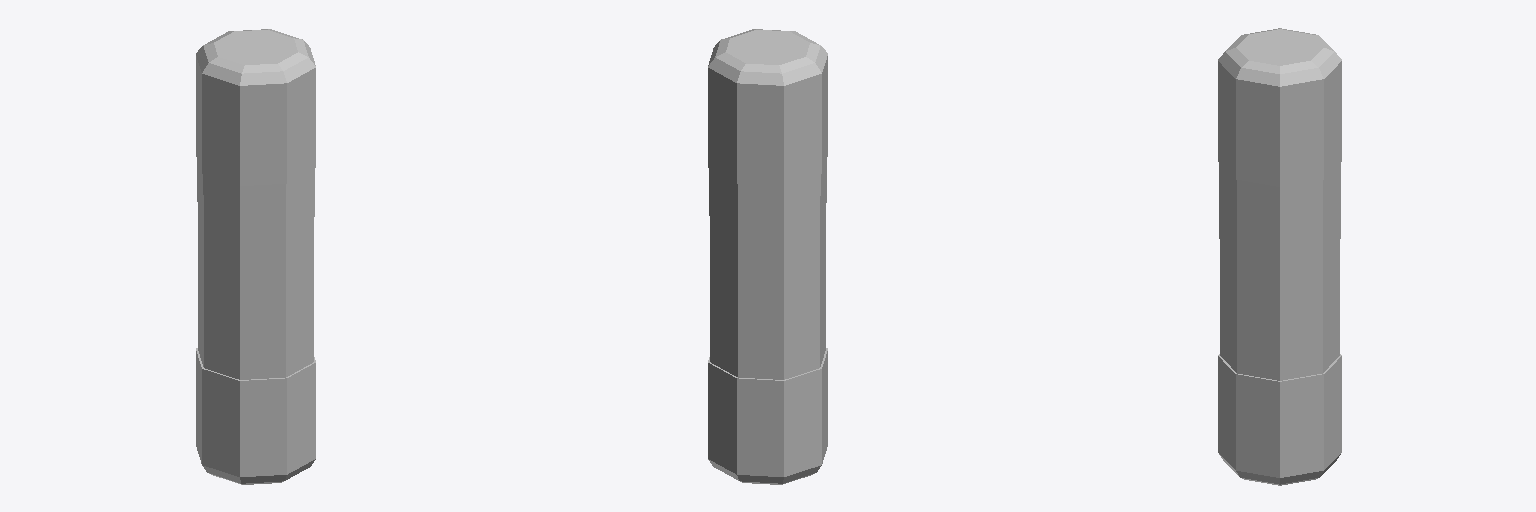
File: Fusible.obj
3 views of the same model, side by side, from view 1: azimuth 30°, elevation 25°; view 2: azimuth 150°, elevation 25°; view 3: azimuth 270°, elevation 25° (orthographic).
Parts seen in each view (by area): view 1: Fusible; view 2: Fusible; view 3: Fusible.
Boxes of the visible parts, x1=… form: Fusible: x1=196, y1=29, x2=315, y2=484; Fusible: x1=708, y1=29, x2=827, y2=484; Fusible: x1=1218, y1=28, x2=1341, y2=485.
Bounding box in the file's own units: 0.0207 × 0.0761 × 0.0207.